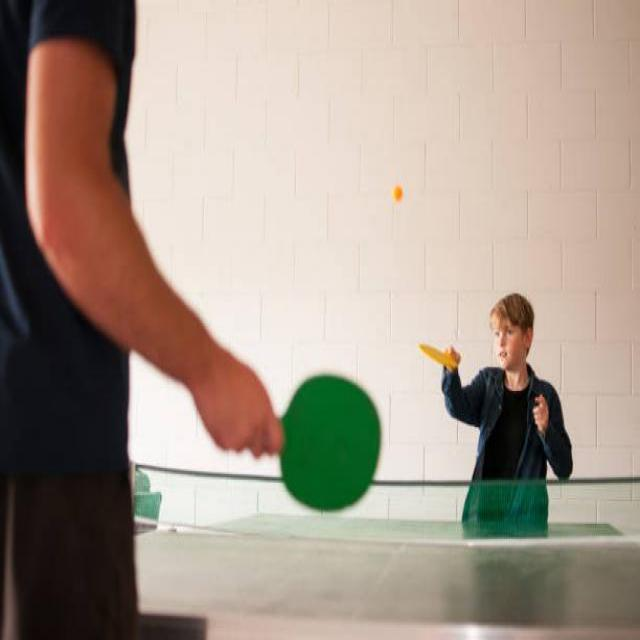oball: (391, 184, 406, 205)
